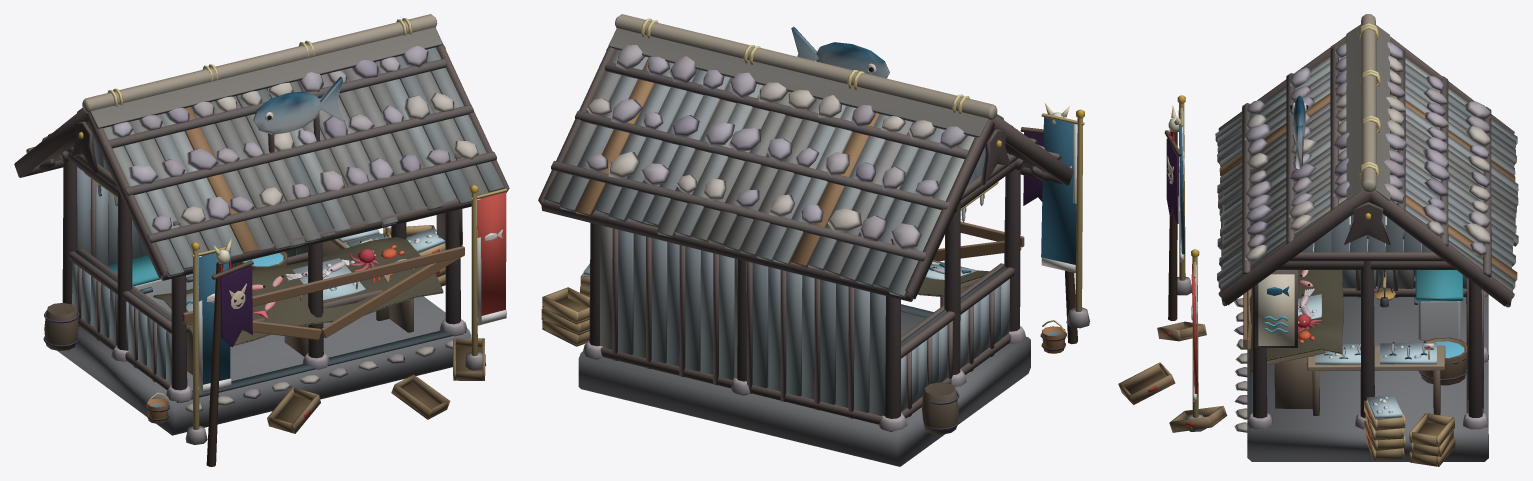
The model's file is zv-tidepool-fishmonger.glb.
3 renders of one model, left to right at view 1: azimuth 30°, elevation 25°; view 2: azimuth 150°, elevation 25°; view 3: azimuth 270°, elevation 25°, orthographic. The views are drawn at different scales.
Visible parts, largest first — view 1: zv-tidepool-fishmonger, siege, saved; view 2: zv-tidepool-fishmonger, saved, siege; view 3: zv-tidepool-fishmonger, siege, saved.
Boxes of the visible parts, x1,y1,x2,y2 form: zv-tidepool-fishmonger: (14,14,509,435); siege: (153,237,485,466); saved: (185,185,506,444); zv-tidepool-fishmonger: (538,14,1073,466); saved: (583,109,1089,328); siege: (917,103,1077,344); zv-tidepool-fishmonger: (1215,14,1518,466); siege: (1118,105,1343,432); saved: (1177,95,1436,431).
Bounding box in the file's own units: 5.14 × 3.79 × 4.65.
